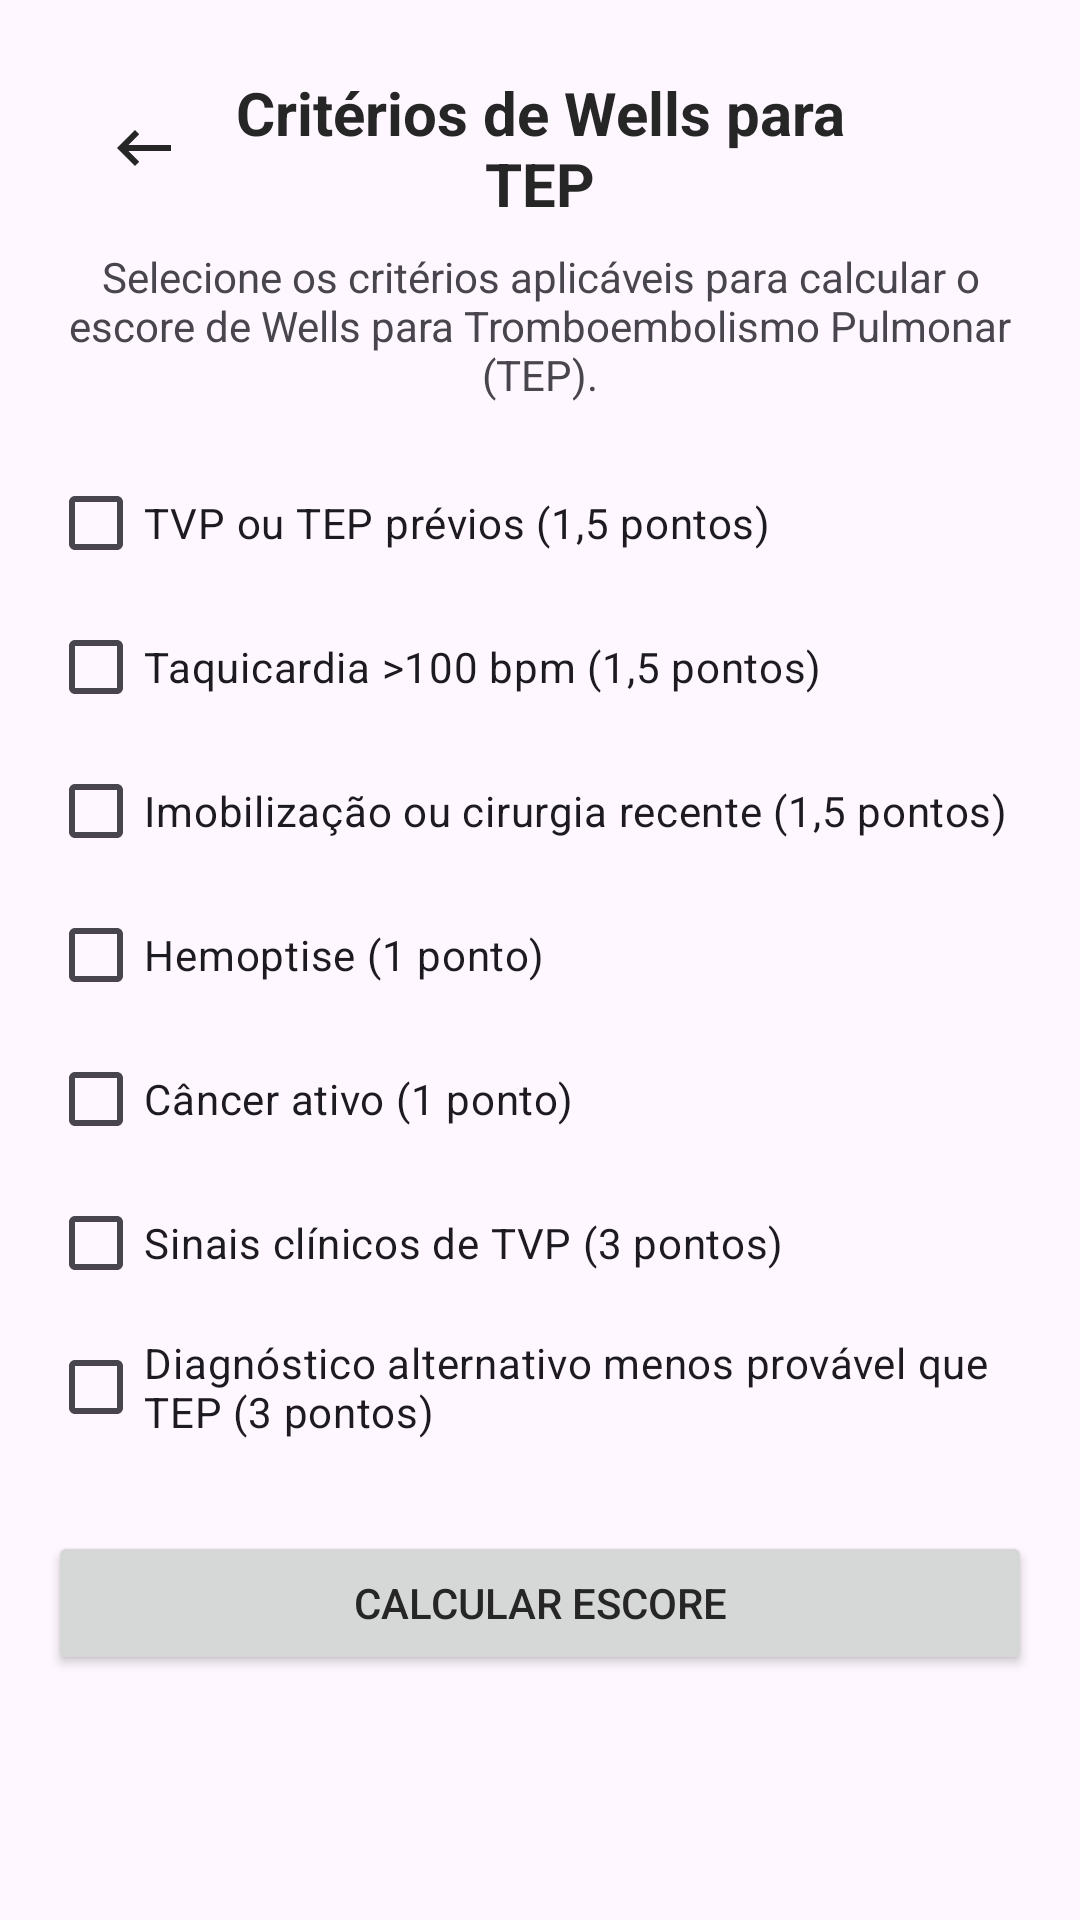

Icons on this 1080×1920 Android screen, each with the point to tap as (x=x, y=y):
Voltar: (x=144, y=148)
